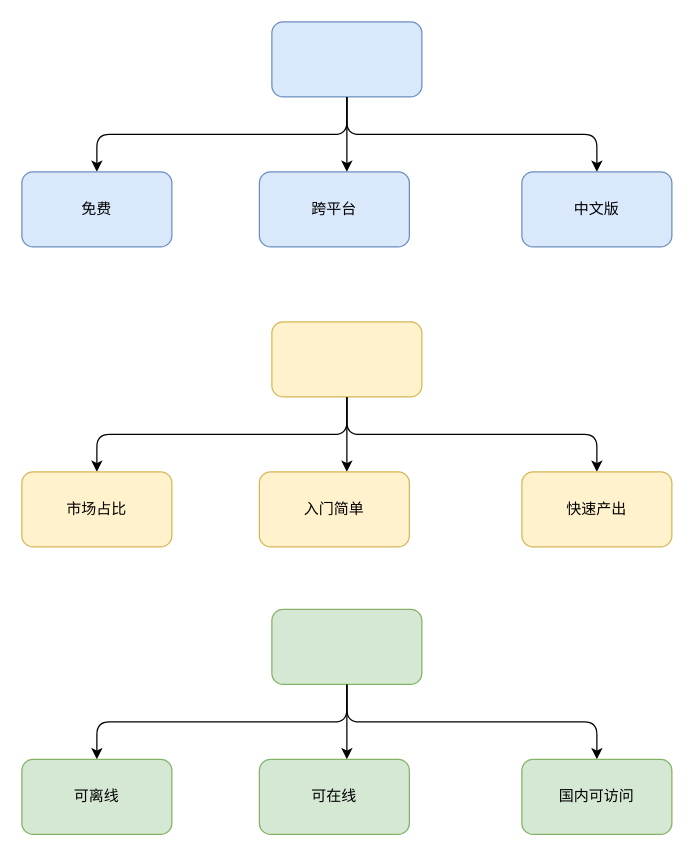
This 694x856 diagram has some shape labels left out. The centre of each missing label's shape, as x and y in pixels:
"效率" goes at pixel 346 359.
"网络" goes at pixel 346 646.
"软件" goes at pixel 346 59.
